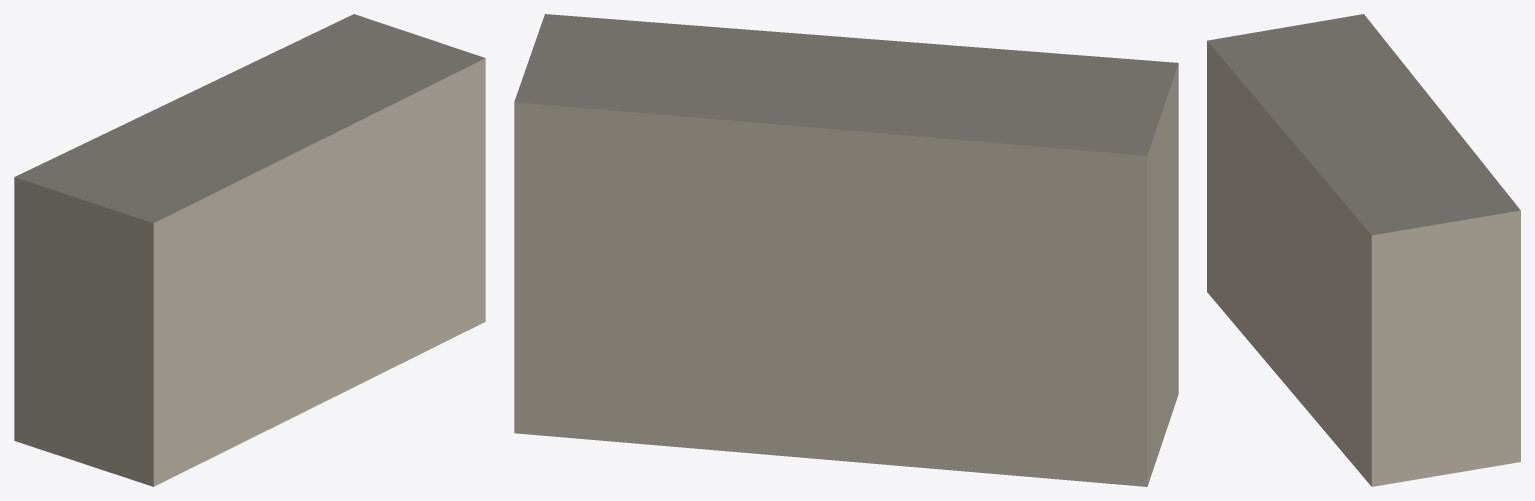
3 renders of one model, left to right at view 1: azimuth 30°, elevation 25°; view 2: azimuth 150°, elevation 25°; view 3: azimuth 270°, elevation 25°, orthographic. The views are drawn at different scales.
Parts seen in each view (by area): view 1: HP-w505659399; view 2: HP-w505659399; view 3: HP-w505659399.
Boxes of the visible parts, x1,y1,x2,y2 form: HP-w505659399: (14, 14, 485, 486); HP-w505659399: (514, 14, 1178, 486); HP-w505659399: (1207, 14, 1520, 486).
Size of the model in its own units: 33.99 by 18 by 20.35.
